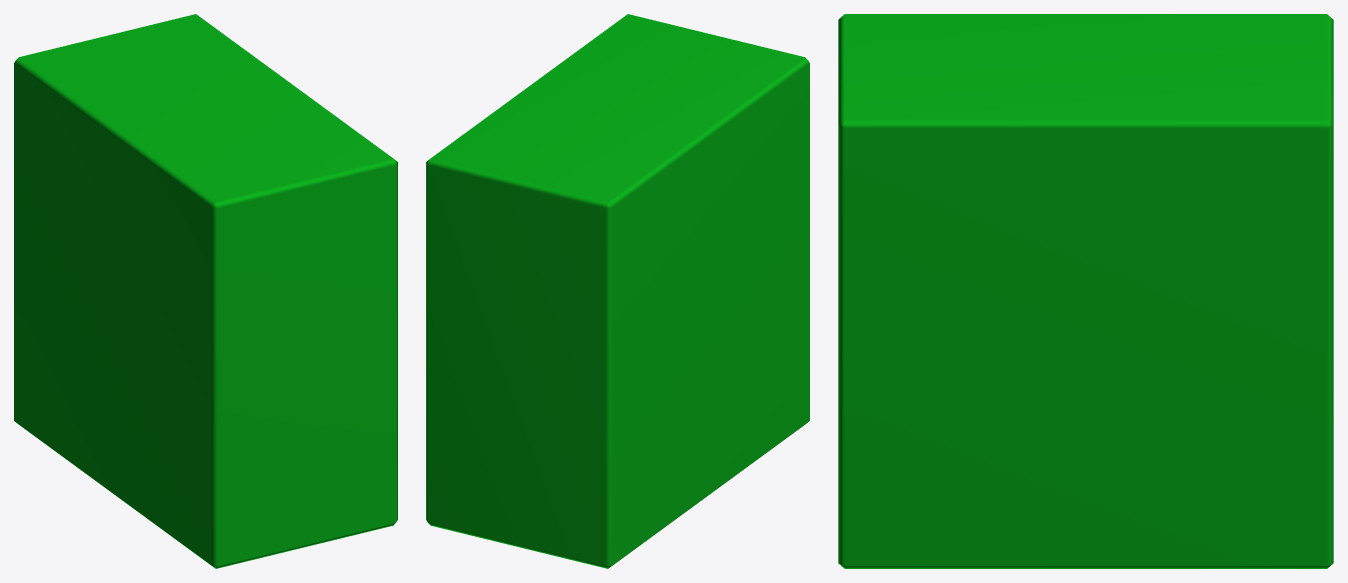
File: Household_Products_02.fbx
3 views of the same model, side by side, from view 1: azimuth 30°, elevation 25°; view 2: azimuth 150°, elevation 25°; view 3: azimuth 270°, elevation 25° (orthographic). The views are drawn at different scales.
Visible parts, largest first — view 1: Household_Products_02; view 2: Household_Products_02; view 3: Household_Products_02.
Boxes of the visible parts, bbox=[...] form: Household_Products_02: bbox=[14, 14, 397, 568]; Household_Products_02: bbox=[426, 14, 809, 568]; Household_Products_02: bbox=[838, 14, 1333, 568].
Size of the model in its own units: 61.68 by 116 by 116.
